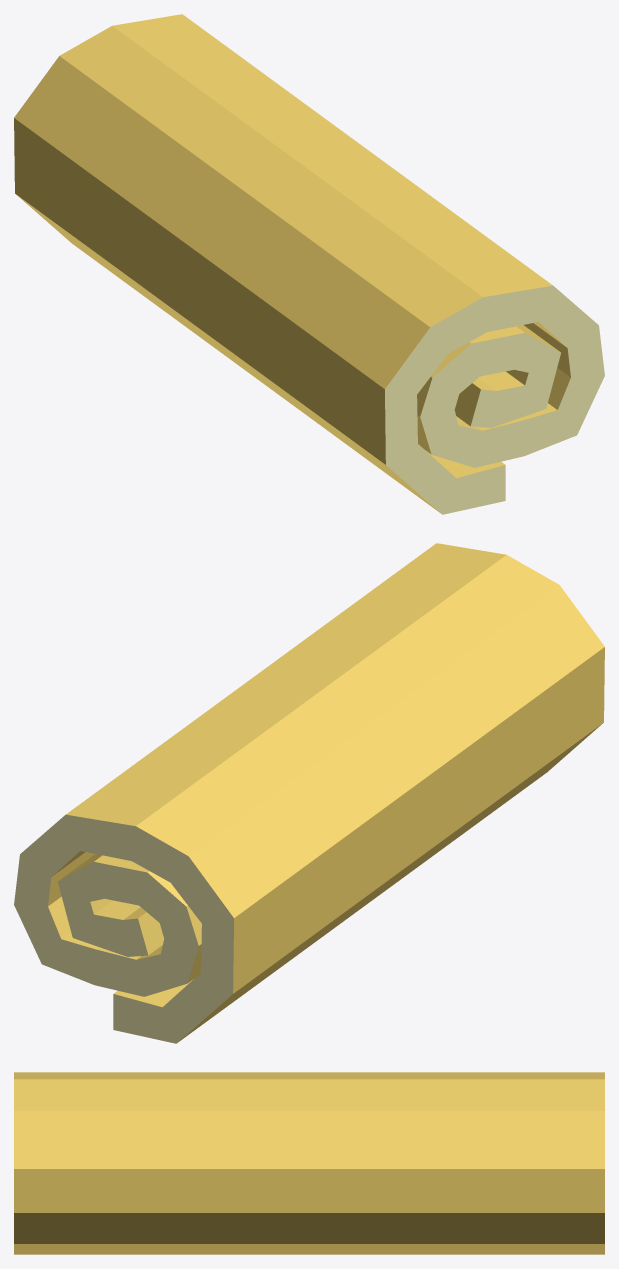
Rendered from Towel Roll.fbx.
The picture shows the model from 3 angles, top to bottom: view 1: azimuth 30°, elevation 25°; view 2: azimuth 150°, elevation 25°; view 3: azimuth 270°, elevation 25°; orthographic projection. The views are drawn at different scales.
Visible parts, largest first — view 1: Towel Roll; view 2: Towel Roll; view 3: Towel Roll.
Boxes of the visible parts, x1,y1,x2,y2 form: Towel Roll: (14,14,604,514); Towel Roll: (14,543,604,1043); Towel Roll: (14,1072,604,1254).
Size of the model in its own units: 23 by 20.9 by 67.14.
